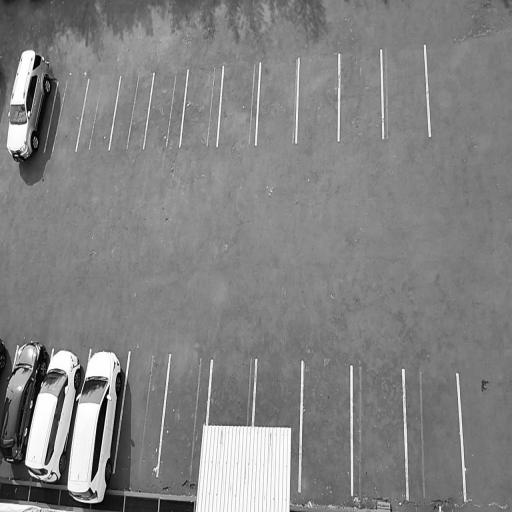Car: (60, 344, 128, 508), (20, 344, 85, 487), (0, 335, 52, 472), (0, 44, 57, 162)
Space Available: (403, 369, 465, 499), (351, 366, 407, 498), (299, 360, 353, 494), (114, 351, 170, 477), (157, 352, 208, 478), (381, 45, 429, 138), (338, 50, 383, 140), (256, 59, 299, 144), (218, 61, 261, 146), (298, 54, 339, 142), (180, 66, 223, 149), (109, 73, 154, 151), (252, 359, 301, 430), (144, 70, 188, 149), (44, 79, 90, 153), (209, 360, 257, 427), (76, 76, 120, 149)
